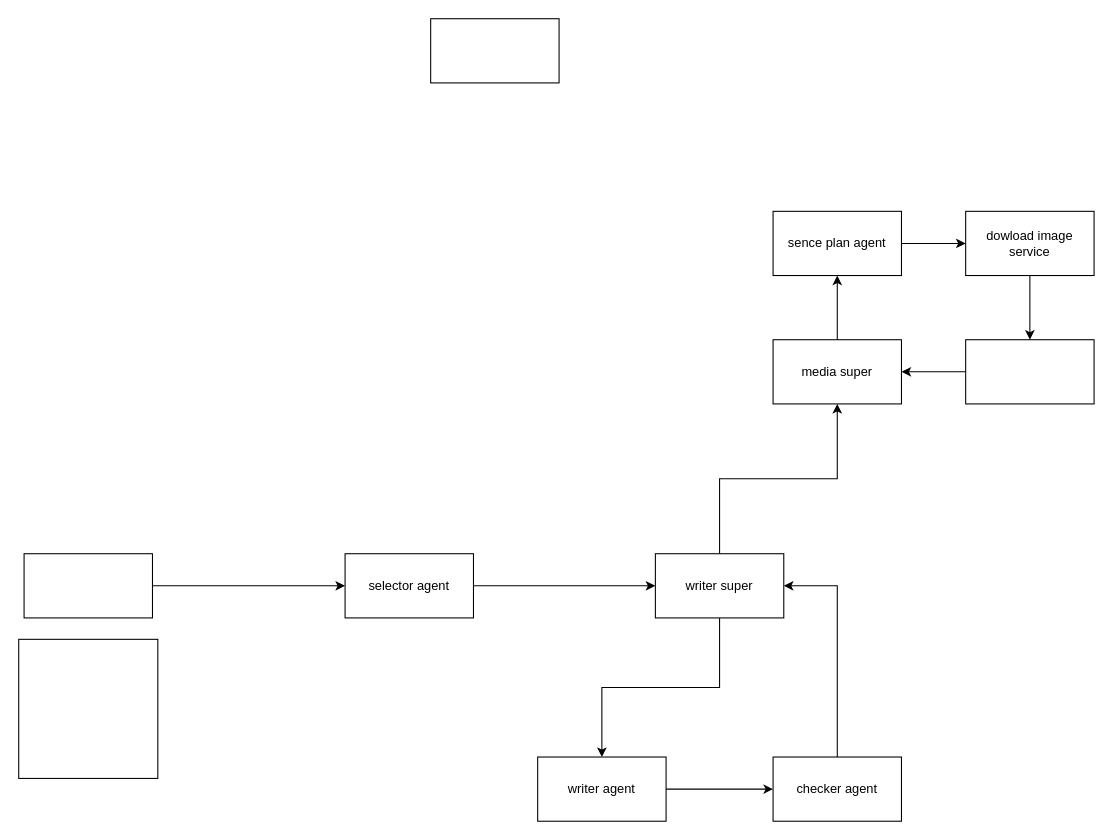
Image size: 1113x840. Some labels were removed from this diagram. The centre of each missing label's shape, as x and y in pixels:
"id: title: des: content: image: url. alt, caption" belongs at [88,708].
"main" belongs at [494,50].
"media checker" belongs at [1029,371].
"search servcie" belongs at [87,585].
